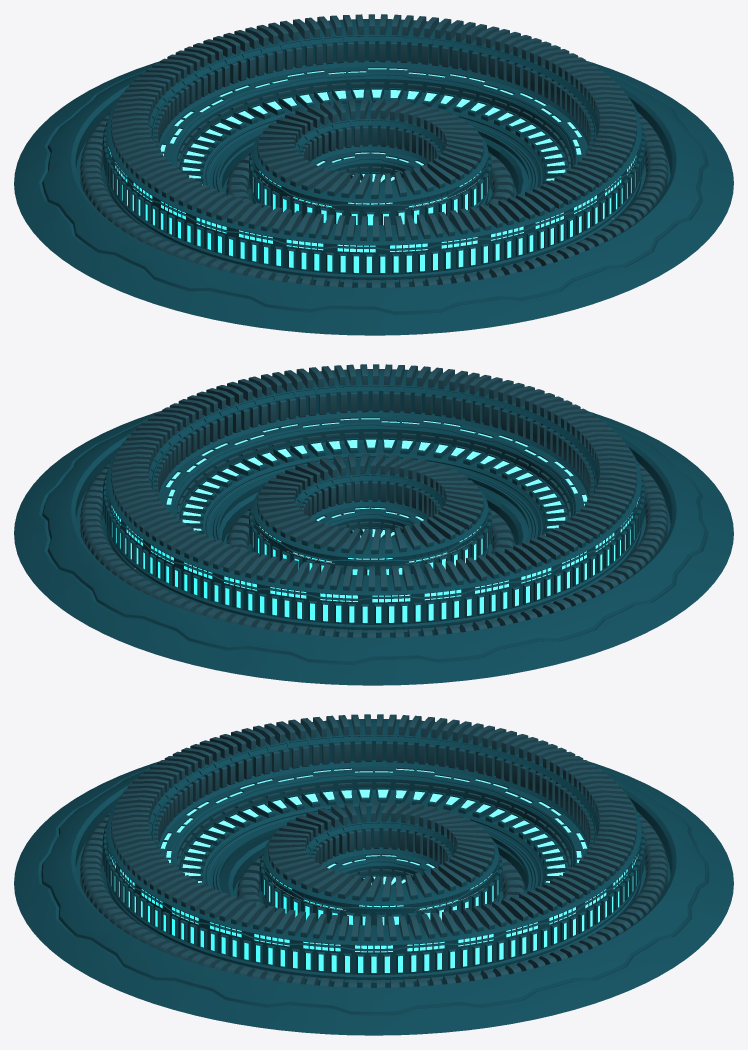
Rendered from machine4.fbx.
3 views of the same model, one above another, from view 1: azimuth 30°, elevation 25°; view 2: azimuth 150°, elevation 25°; view 3: azimuth 270°, elevation 25° (orthographic).
Visible parts, largest first — view 1: Cube_0, Cube.001_3; view 2: Cube_0, Cube.001_3; view 3: Cube_0, Cube.001_3.
Part boxes in pixels (x1,y1,x2,y2): Cube_0: (14, 14, 733, 335); Cube.001_3: (219, 98, 528, 225); Cube_0: (14, 364, 733, 685); Cube.001_3: (219, 454, 528, 575); Cube_0: (14, 714, 733, 1035); Cube.001_3: (219, 801, 528, 925).
Bounding box in the file's own units: 3063 × 532 × 3063.
